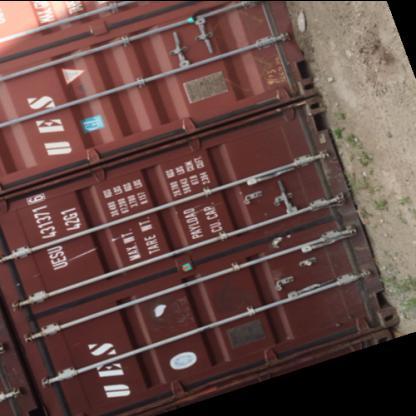Damage: (258, 88, 356, 290), (152, 279, 192, 349)
